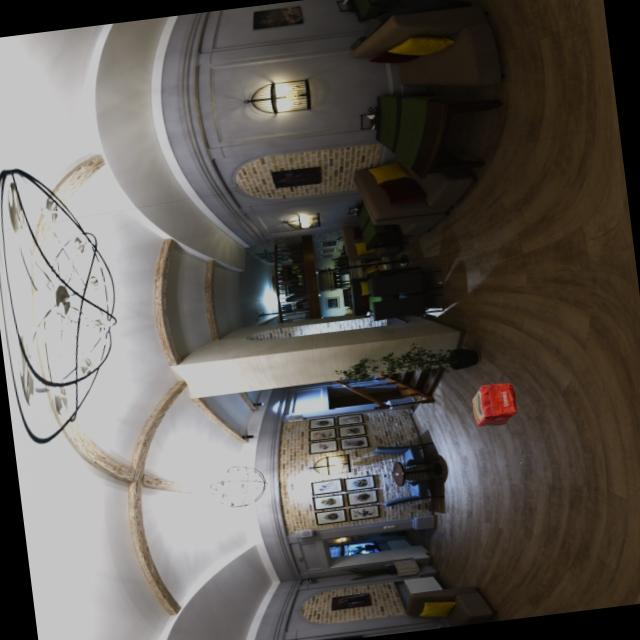mate bag: (467, 380, 517, 428)
